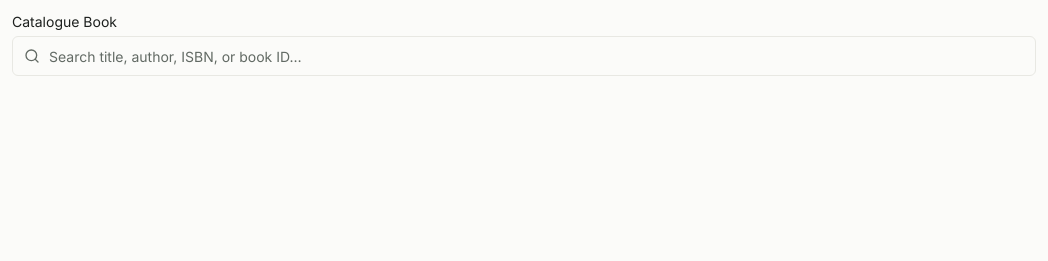
Test: CatalogueSelector › shows the empty-catalogue state when there are no recent books
Focus the field named "Catalogue Book". click: x=524, y=56
box: [12,36,1036,76]
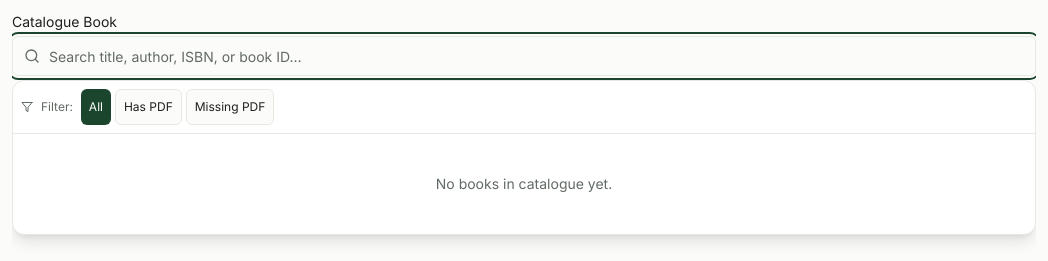
Result: the text "No books in catalogue yet." is shown at [436,175,612,192]
